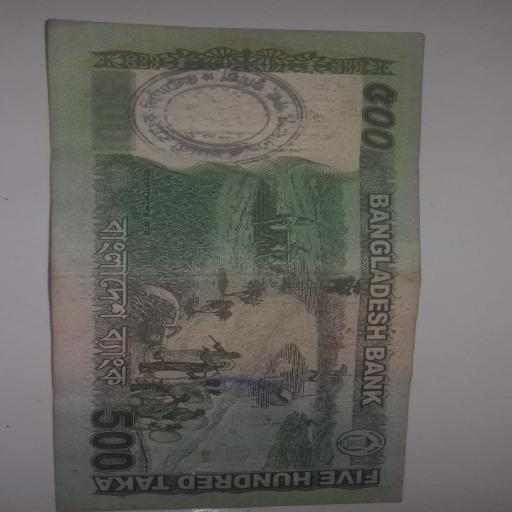500taka: (43, 18, 418, 504)
